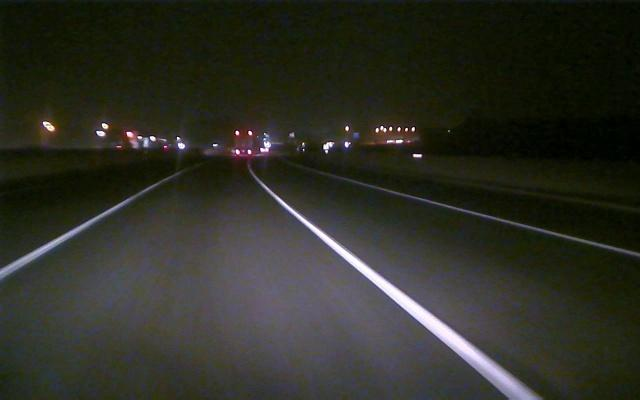lane: (257, 182, 544, 398), (345, 177, 640, 259), (1, 182, 158, 279)
